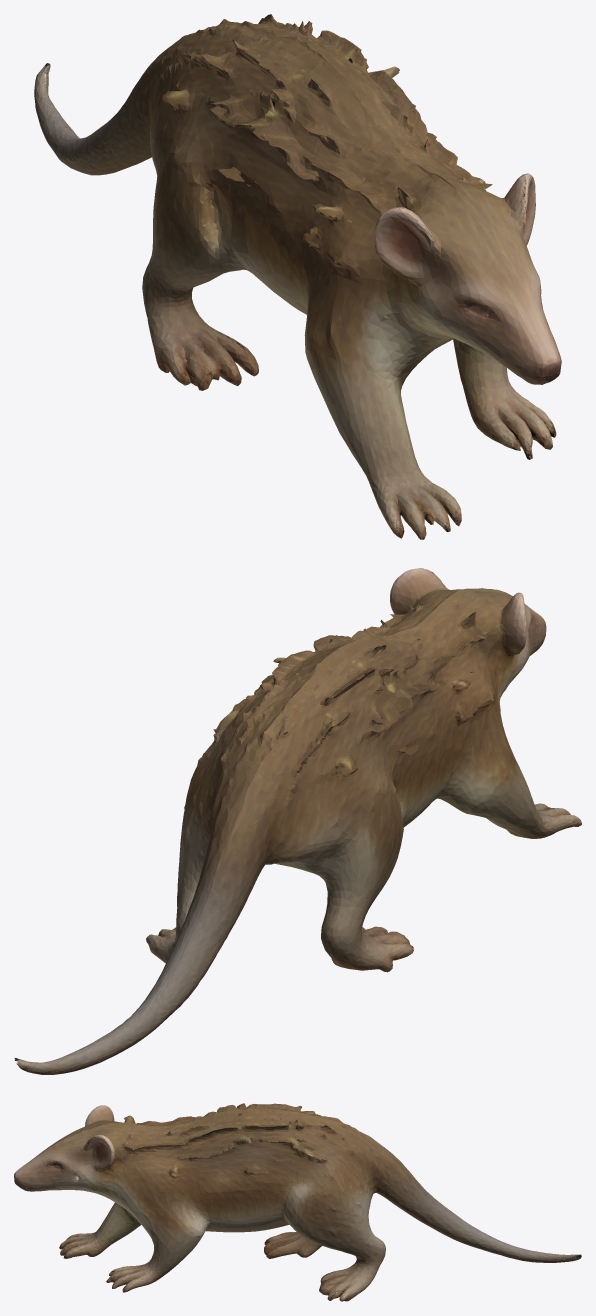
The picture shows the model from 3 angles, top to bottom: view 1: azimuth 30°, elevation 25°; view 2: azimuth 150°, elevation 25°; view 3: azimuth 270°, elevation 25°; orthographic projection. The views are drawn at different scales.
Visible parts, largest first — view 1: world; view 2: world; view 3: world.
Boxes of the visible parts, x1,y1,x2,y2 form: world: (34, 14, 561, 539); world: (14, 568, 581, 1074); world: (14, 1103, 581, 1301).
Size of the model in its own units: 0.2605 by 0.3201 by 1.
1 material, 1 textured.
